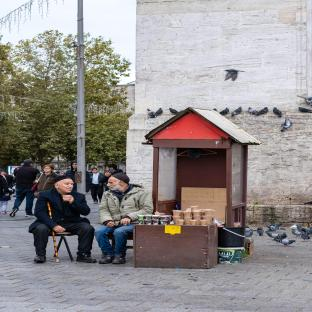Human: (29, 176, 96, 263), (94, 173, 153, 264)
